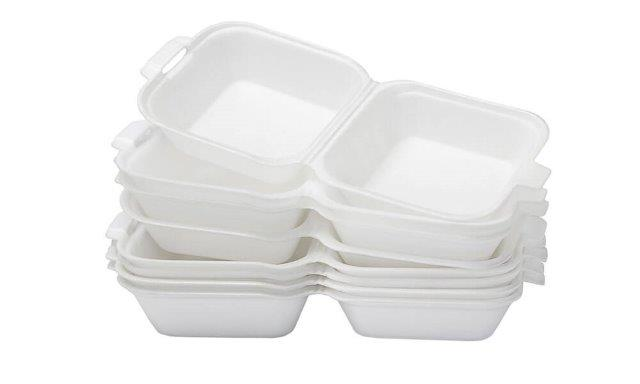sterofoam: (117, 26, 542, 336)
